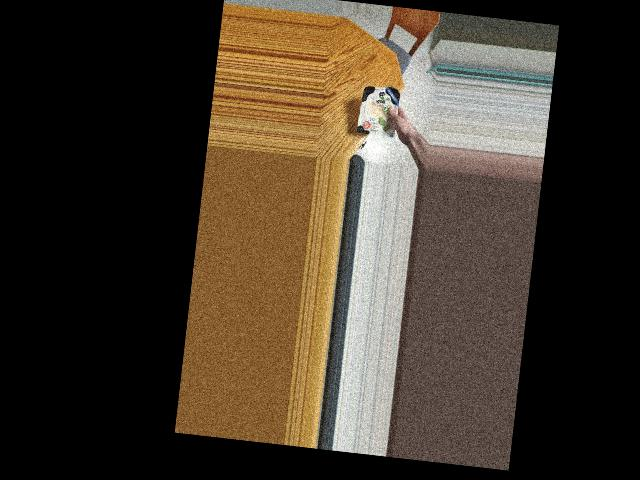cheese: (356, 73, 403, 148)
